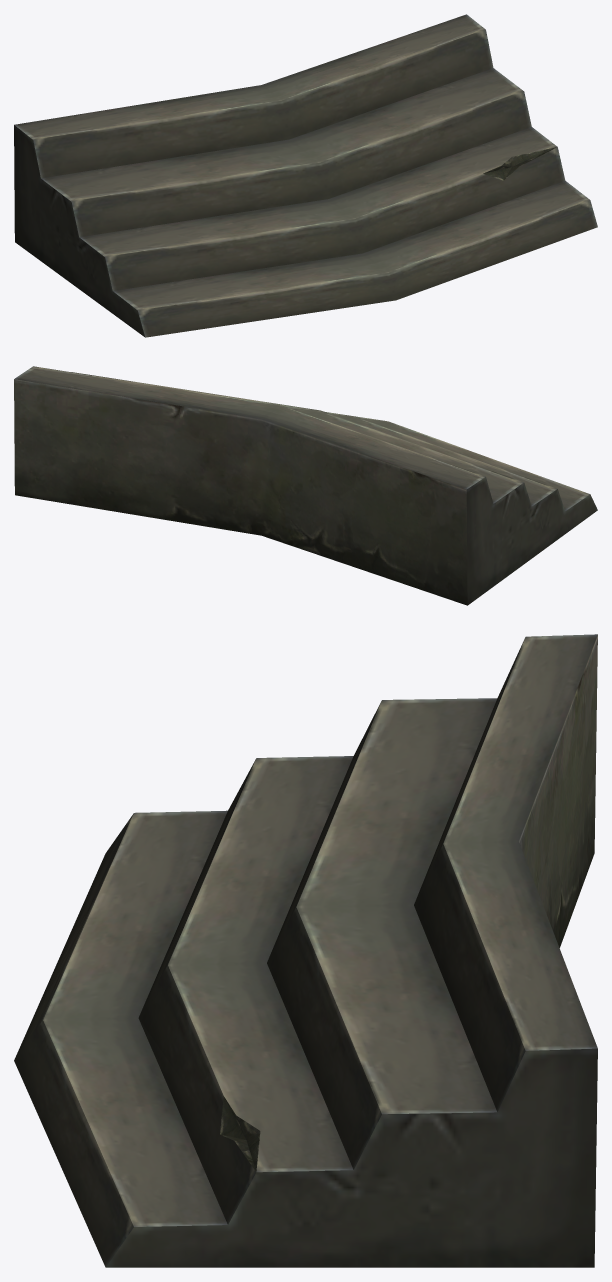
The model's file is F_yuanpan004.fbx.
3 views of the same model, one above another, from view 1: azimuth 30°, elevation 25°; view 2: azimuth 150°, elevation 25°; view 3: azimuth 270°, elevation 25° (orthographic). The views are drawn at different scales.
Parts seen in each view (by area): view 1: F_yuanpan004; view 2: F_yuanpan004; view 3: F_yuanpan004.
Boxes of the visible parts, x1,y1,x2,y2 form: F_yuanpan004: (14,14,597,337); F_yuanpan004: (14,366,597,605); F_yuanpan004: (14,634,597,1267).
Bounding box in the file's own units: 425 × 105 × 253.
